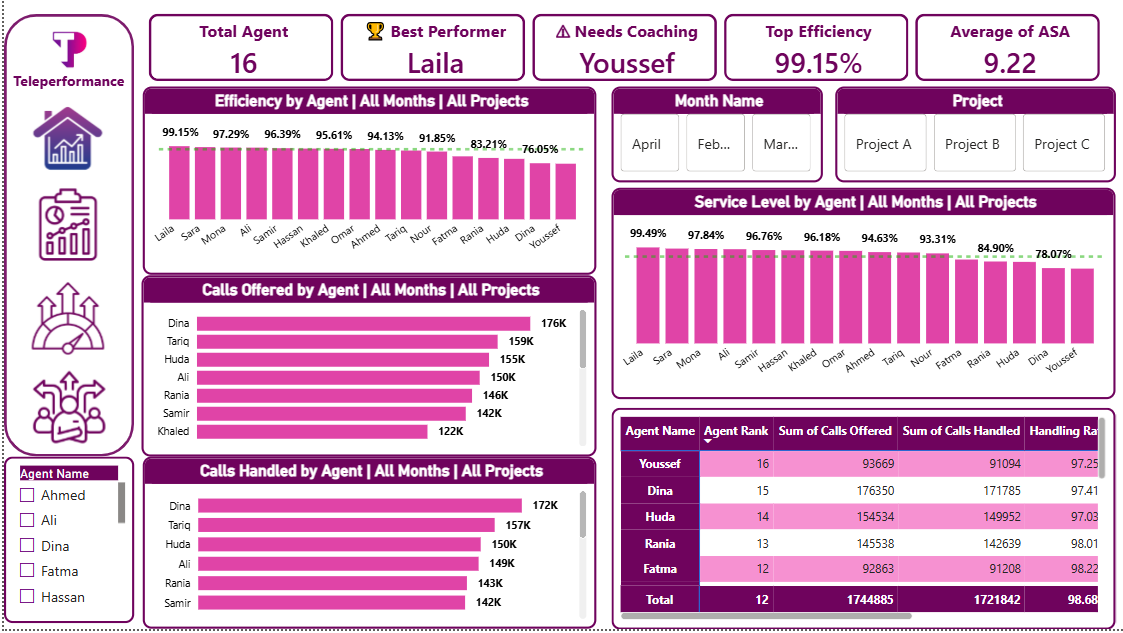

Layout of this report page (visuals, bound fields, positions):
{"tool":"powerbi","page":{"name":"Agent Performance","canvas":[1280,720],"ordinal":3},"visuals":[{"type":"shape","box":[0,17.1,148.6,505.7],"z":0},{"type":"image","box":[4.1,26.1,138.6,57.6],"z":1000},{"type":"cardVisual","title":"dfvdv","fields":{"Data":["Sallah Call Center.Total Agent","Sallah Call Center.Best Agent","Sallah Call Center.Worst Agent","Sallah Call Center.Top Efficiency","Avg(Sallah Call Center.ASA)"]},"box":[148.2,0,1122.5,111.1],"z":2000},{"type":"actionButton","box":[0,54.9,148.2,76.8],"z":3000},{"type":"clusteredColumnChart","fields":{"Category":["Sallah Call Center.Agent Name"],"Y":["Sallah Call Center.Efficiency"]},"box":[159.2,100.2,518.7,215.4],"z":4000},{"type":"clusteredColumnChart","fields":{"Category":["Sallah Call Center.Agent Name"],"Y":["Sallah Call Center.Service Level"]},"box":[694.3,215.4,576.3,241.5],"z":5000},{"type":"advancedSlicerVisual","fields":{"Values":["Sallah Call Center.Project"]},"box":[949.6,100.2,321.1,109.8],"z":6000},{"type":"advancedSlicerVisual","fields":{"Values":["Calendar.Month Name"]},"box":[694.3,100.2,241.5,109.8],"z":7000},{"type":"slicer","fields":{"Values":["Sallah Call Center.Agent Name"]},"box":[0,522.9,148.6,190],"z":8000},{"type":"clusteredBarChart","fields":{"Y":["Sallah Call Center.Total Offered"],"Category":["Sallah Call Center.Agent Name"]},"box":[157.1,315.7,520,207.1],"z":9000},{"type":"pivotTable","fields":{"Values":["Sallah Call Center.Agent Rank","Sum(Sallah Call Center.Calls Offered)","Sum(Sallah Call Center.Calls Handled)","Sallah Call Center.Handling Rate","Sallah Call Center.Service Level","Sallah Call Center.Efficiency","Avg(Sallah Call Center.ASA)"],"Rows":["Sallah Call Center.Agent Name"]},"box":[694.3,466.6,576.3,253.9],"z":10000},{"type":"barChart","fields":{"Category":["Sallah Call Center.Agent Name"],"Y":["Sum(Sallah Call Center.Calls Handled)"]},"box":[158.6,522.9,518.6,197.1],"z":11000},{"type":"actionButton","box":[22.9,111.4,100,95.7],"z":12000},{"type":"actionButton","box":[22.9,210,100,95.7],"z":13000},{"type":"actionButton","box":[24.3,418.6,100,95.7],"z":14000},{"type":"actionButton","box":[22.9,317.1,100,95.7],"z":15000}]}

Visuals, with their boxes in screenshot pixels (x1, y1, x2, y2), scaled from the page's 1280x720 canvas onto the 1123x633 screenshot:
shape: [x1=0, y1=15, x2=130, y2=460]
image: [x1=4, y1=23, x2=125, y2=74]
"dfvdv" cardVisual: [x1=130, y1=0, x2=1115, y2=98]
actionButton: [x1=0, y1=48, x2=130, y2=116]
clusteredColumnChart - Sallah Call Center.Agent Name x Sallah Call Center.Efficiency: [x1=140, y1=88, x2=595, y2=277]
clusteredColumnChart - Sallah Call Center.Agent Name x Sallah Call Center.Service Level: [x1=609, y1=189, x2=1115, y2=402]
advancedSlicerVisual - Sallah Call Center.Project: [x1=833, y1=88, x2=1115, y2=185]
advancedSlicerVisual - Calendar.Month Name: [x1=609, y1=88, x2=821, y2=185]
slicer - Sallah Call Center.Agent Name: [x1=0, y1=460, x2=130, y2=627]
clusteredBarChart - Sallah Call Center.Total Offered x Sallah Call Center.Agent Name: [x1=138, y1=278, x2=594, y2=460]
pivotTable - Sallah Call Center.Agent Rank x Sum(Sallah Call Center.Calls Offered): [x1=609, y1=410, x2=1115, y2=632]
barChart - Sallah Call Center.Agent Name x Sum(Sallah Call Center.Calls Handled): [x1=139, y1=460, x2=594, y2=632]
actionButton: [x1=20, y1=98, x2=108, y2=182]
actionButton: [x1=20, y1=185, x2=108, y2=269]
actionButton: [x1=21, y1=368, x2=109, y2=452]
actionButton: [x1=20, y1=279, x2=108, y2=363]
